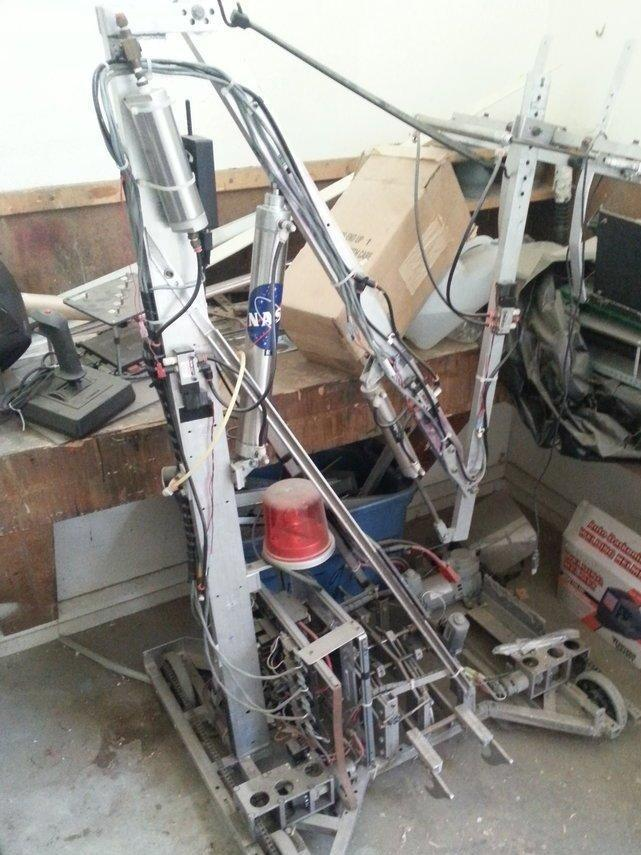robot: (91, 0, 641, 855)
